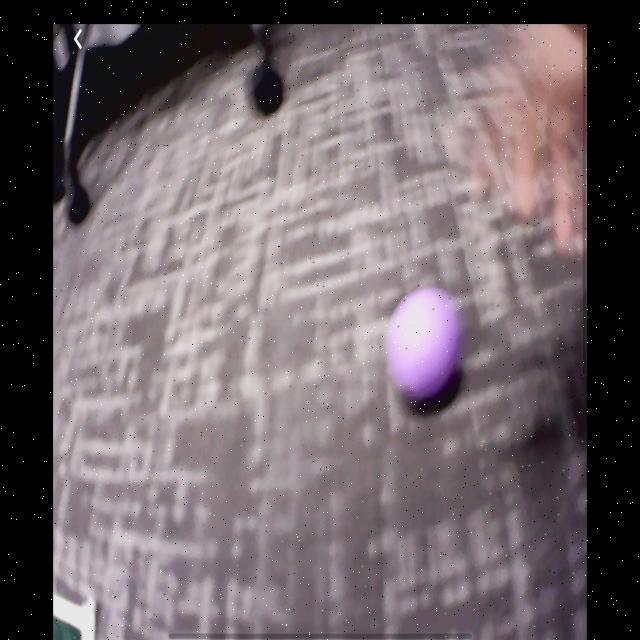ball: (385, 285, 463, 406)
